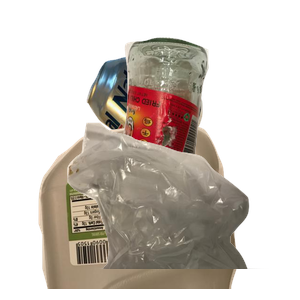glass: (112, 35, 300, 215)
metal: (84, 53, 279, 202)
plastic: (36, 120, 265, 300)
trash: (65, 120, 300, 300)
